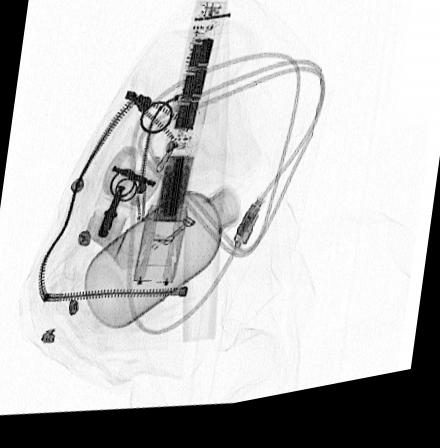Baton: (131, 9, 226, 293)
